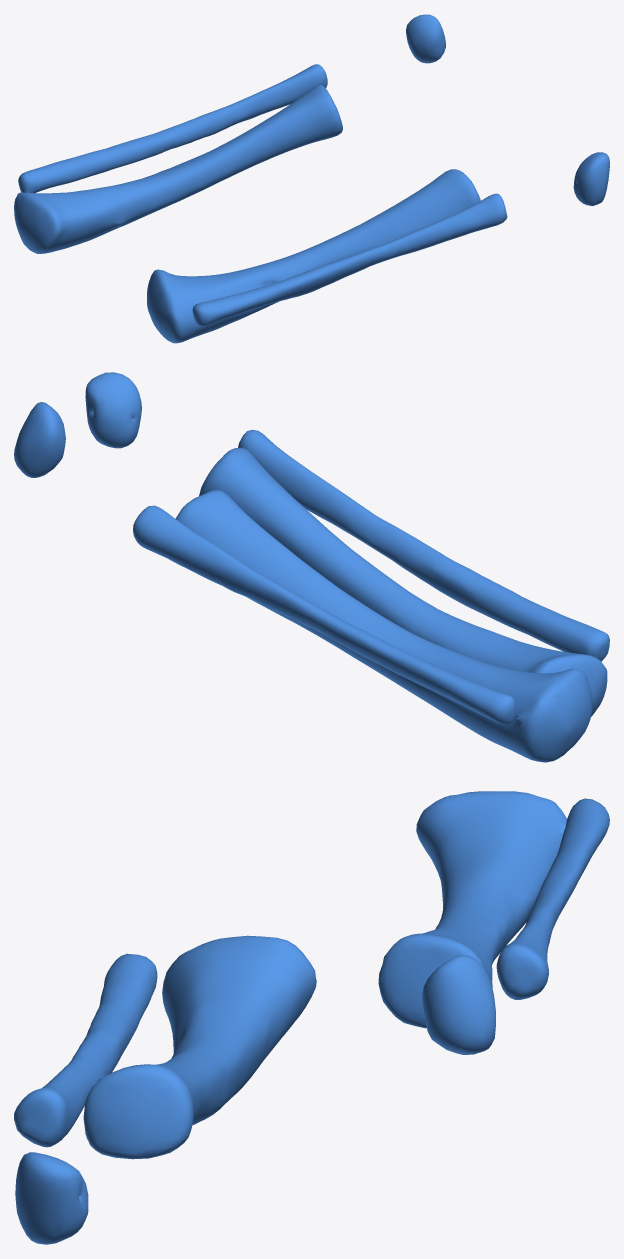
3 views of the same model, one above another, from view 1: azimuth 30°, elevation 25°; view 2: azimuth 150°, elevation 25°; view 3: azimuth 270°, elevation 25° (orthographic). The views are drawn at different scales.
Visible parts, largest first — view 1: Neonate_Leg_SP1_cleaned; view 2: Neonate_Leg_SP1_cleaned; view 3: Neonate_Leg_SP1_cleaned.
Boxes of the visible parts, x1=… form: Neonate_Leg_SP1_cleaned: x1=14, y1=14, x2=609, y2=343; Neonate_Leg_SP1_cleaned: x1=14, y1=372, x2=609, y2=762; Neonate_Leg_SP1_cleaned: x1=14, y1=791, x2=609, y2=1244.
Bounding box in the file's own units: 68.12 × 28.17 × 39.92.
